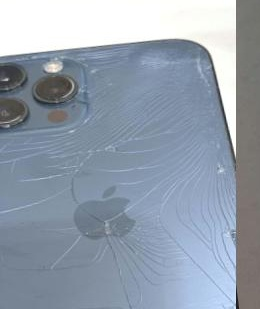physical_damage: (0, 174, 154, 266), (160, 153, 236, 293), (92, 77, 218, 154), (67, 29, 210, 93), (0, 244, 157, 298), (0, 116, 104, 190), (57, 283, 175, 309), (13, 45, 74, 77)
